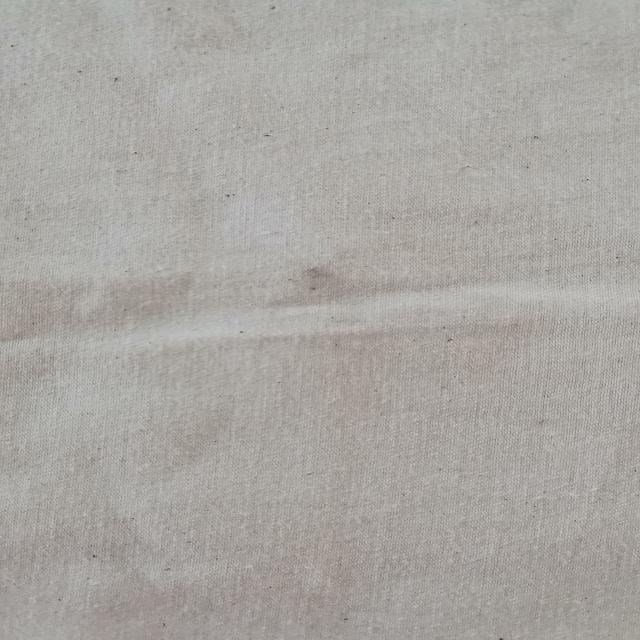taaaches: (256, 262, 380, 328)
